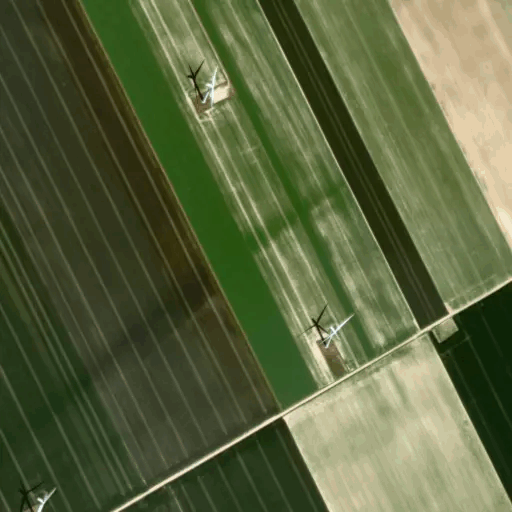wt: (290, 294, 356, 358), (182, 58, 231, 121), (11, 469, 61, 512)
